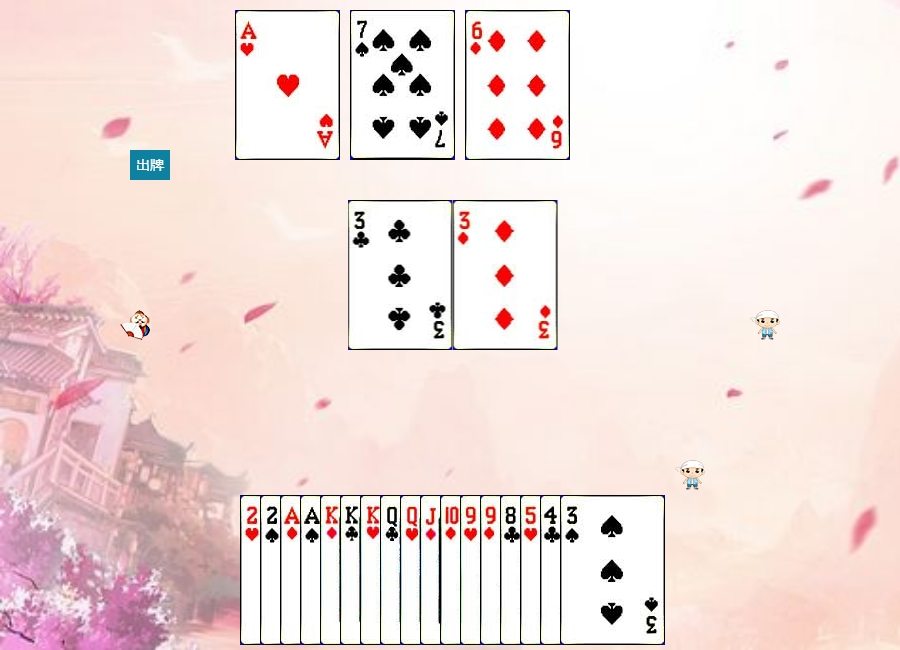10~1: (440, 495, 545, 645)
11~1: (420, 495, 525, 645)
12~2: (380, 495, 485, 645)
12~3: (400, 495, 505, 645)
13~1: (320, 495, 425, 645)
13~2: (340, 495, 445, 645)
13~3: (360, 495, 465, 645)
14~1: (280, 495, 385, 645)
14~3: (235, 10, 340, 160)
14~4: (300, 495, 405, 645)
15~3: (240, 495, 345, 645)
15~4: (260, 495, 365, 645)
3~1: (453, 200, 558, 350)
3~2: (348, 200, 453, 350)
3~4: (560, 495, 665, 645)
4~2: (540, 495, 645, 645)
5~3: (520, 495, 625, 645)
6~1: (465, 10, 570, 160)
7~4: (350, 10, 455, 160)
8~2: (500, 495, 605, 645)
9~1: (480, 495, 585, 645)
9~3: (460, 495, 565, 645)
